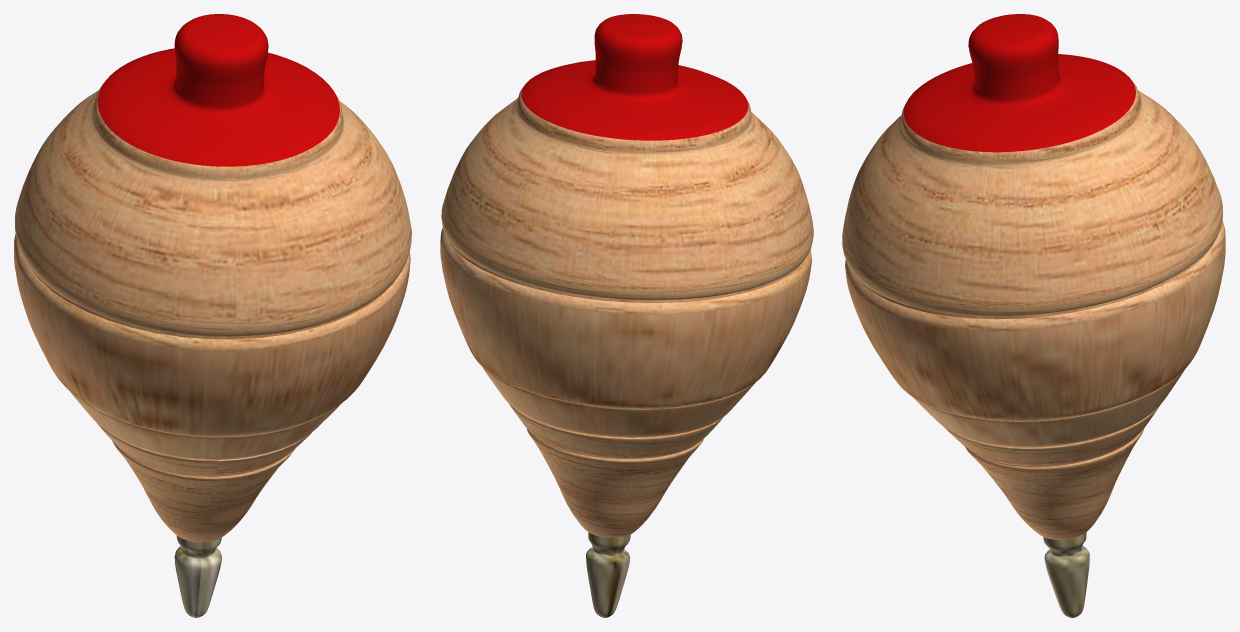
The model's file is peonza.glb.
3 renders of one model, left to right at view 1: azimuth 30°, elevation 25°; view 2: azimuth 150°, elevation 25°; view 3: azimuth 270°, elevation 25°, orthographic. The views are drawn at different scales.
Bounding box in the file's own units: 0.0857 × 0.1455 × 0.0859.
Materials: 4 (2 with a texture image).
